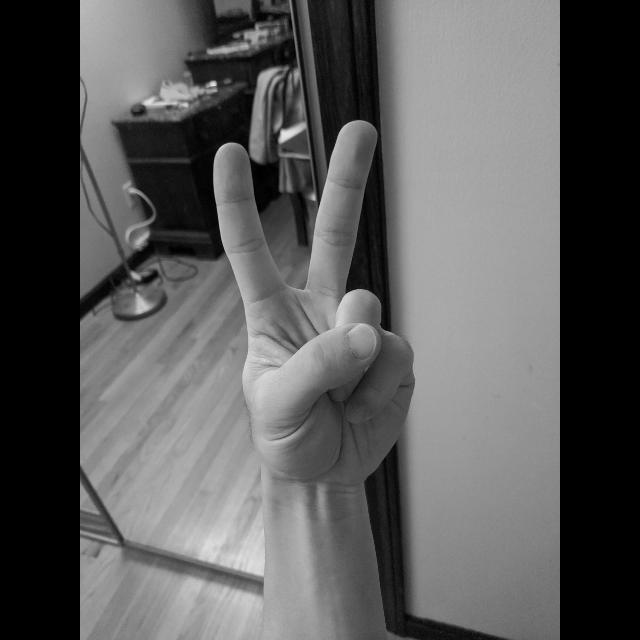V: (207, 116, 419, 492)
